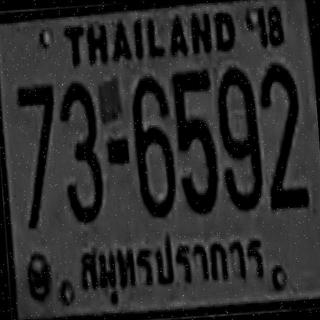N00: (215, 64, 262, 210)
N02: (258, 61, 308, 210), (257, 61, 305, 201)
N03: (57, 80, 104, 222)
N05: (170, 67, 218, 213)
N06: (129, 74, 176, 215)
N07: (16, 84, 62, 228), (16, 83, 59, 186)
N09: (214, 64, 262, 210)
P57: (72, 221, 272, 310)
